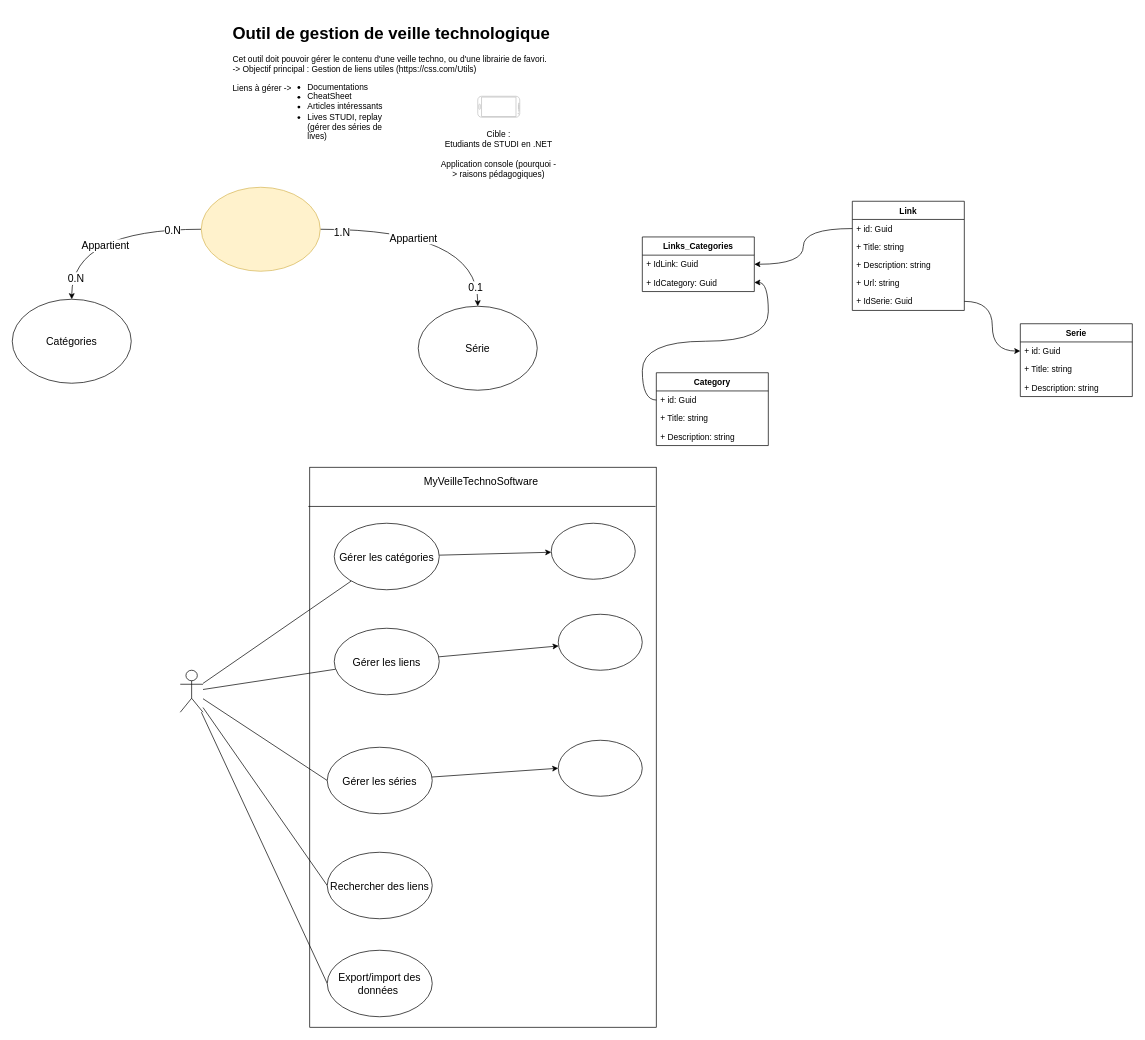
The diagram is 1145 pixels wide and 1040 high, and some of its shapes have lost their labels. Each missing label, with the centre of its shape:
CRUD catégories: [593,551]
CRUD liens: [600,642]
CRUD series: [600,768]
Etudiant chez studi: [191,691]
Liens: [260,229]
